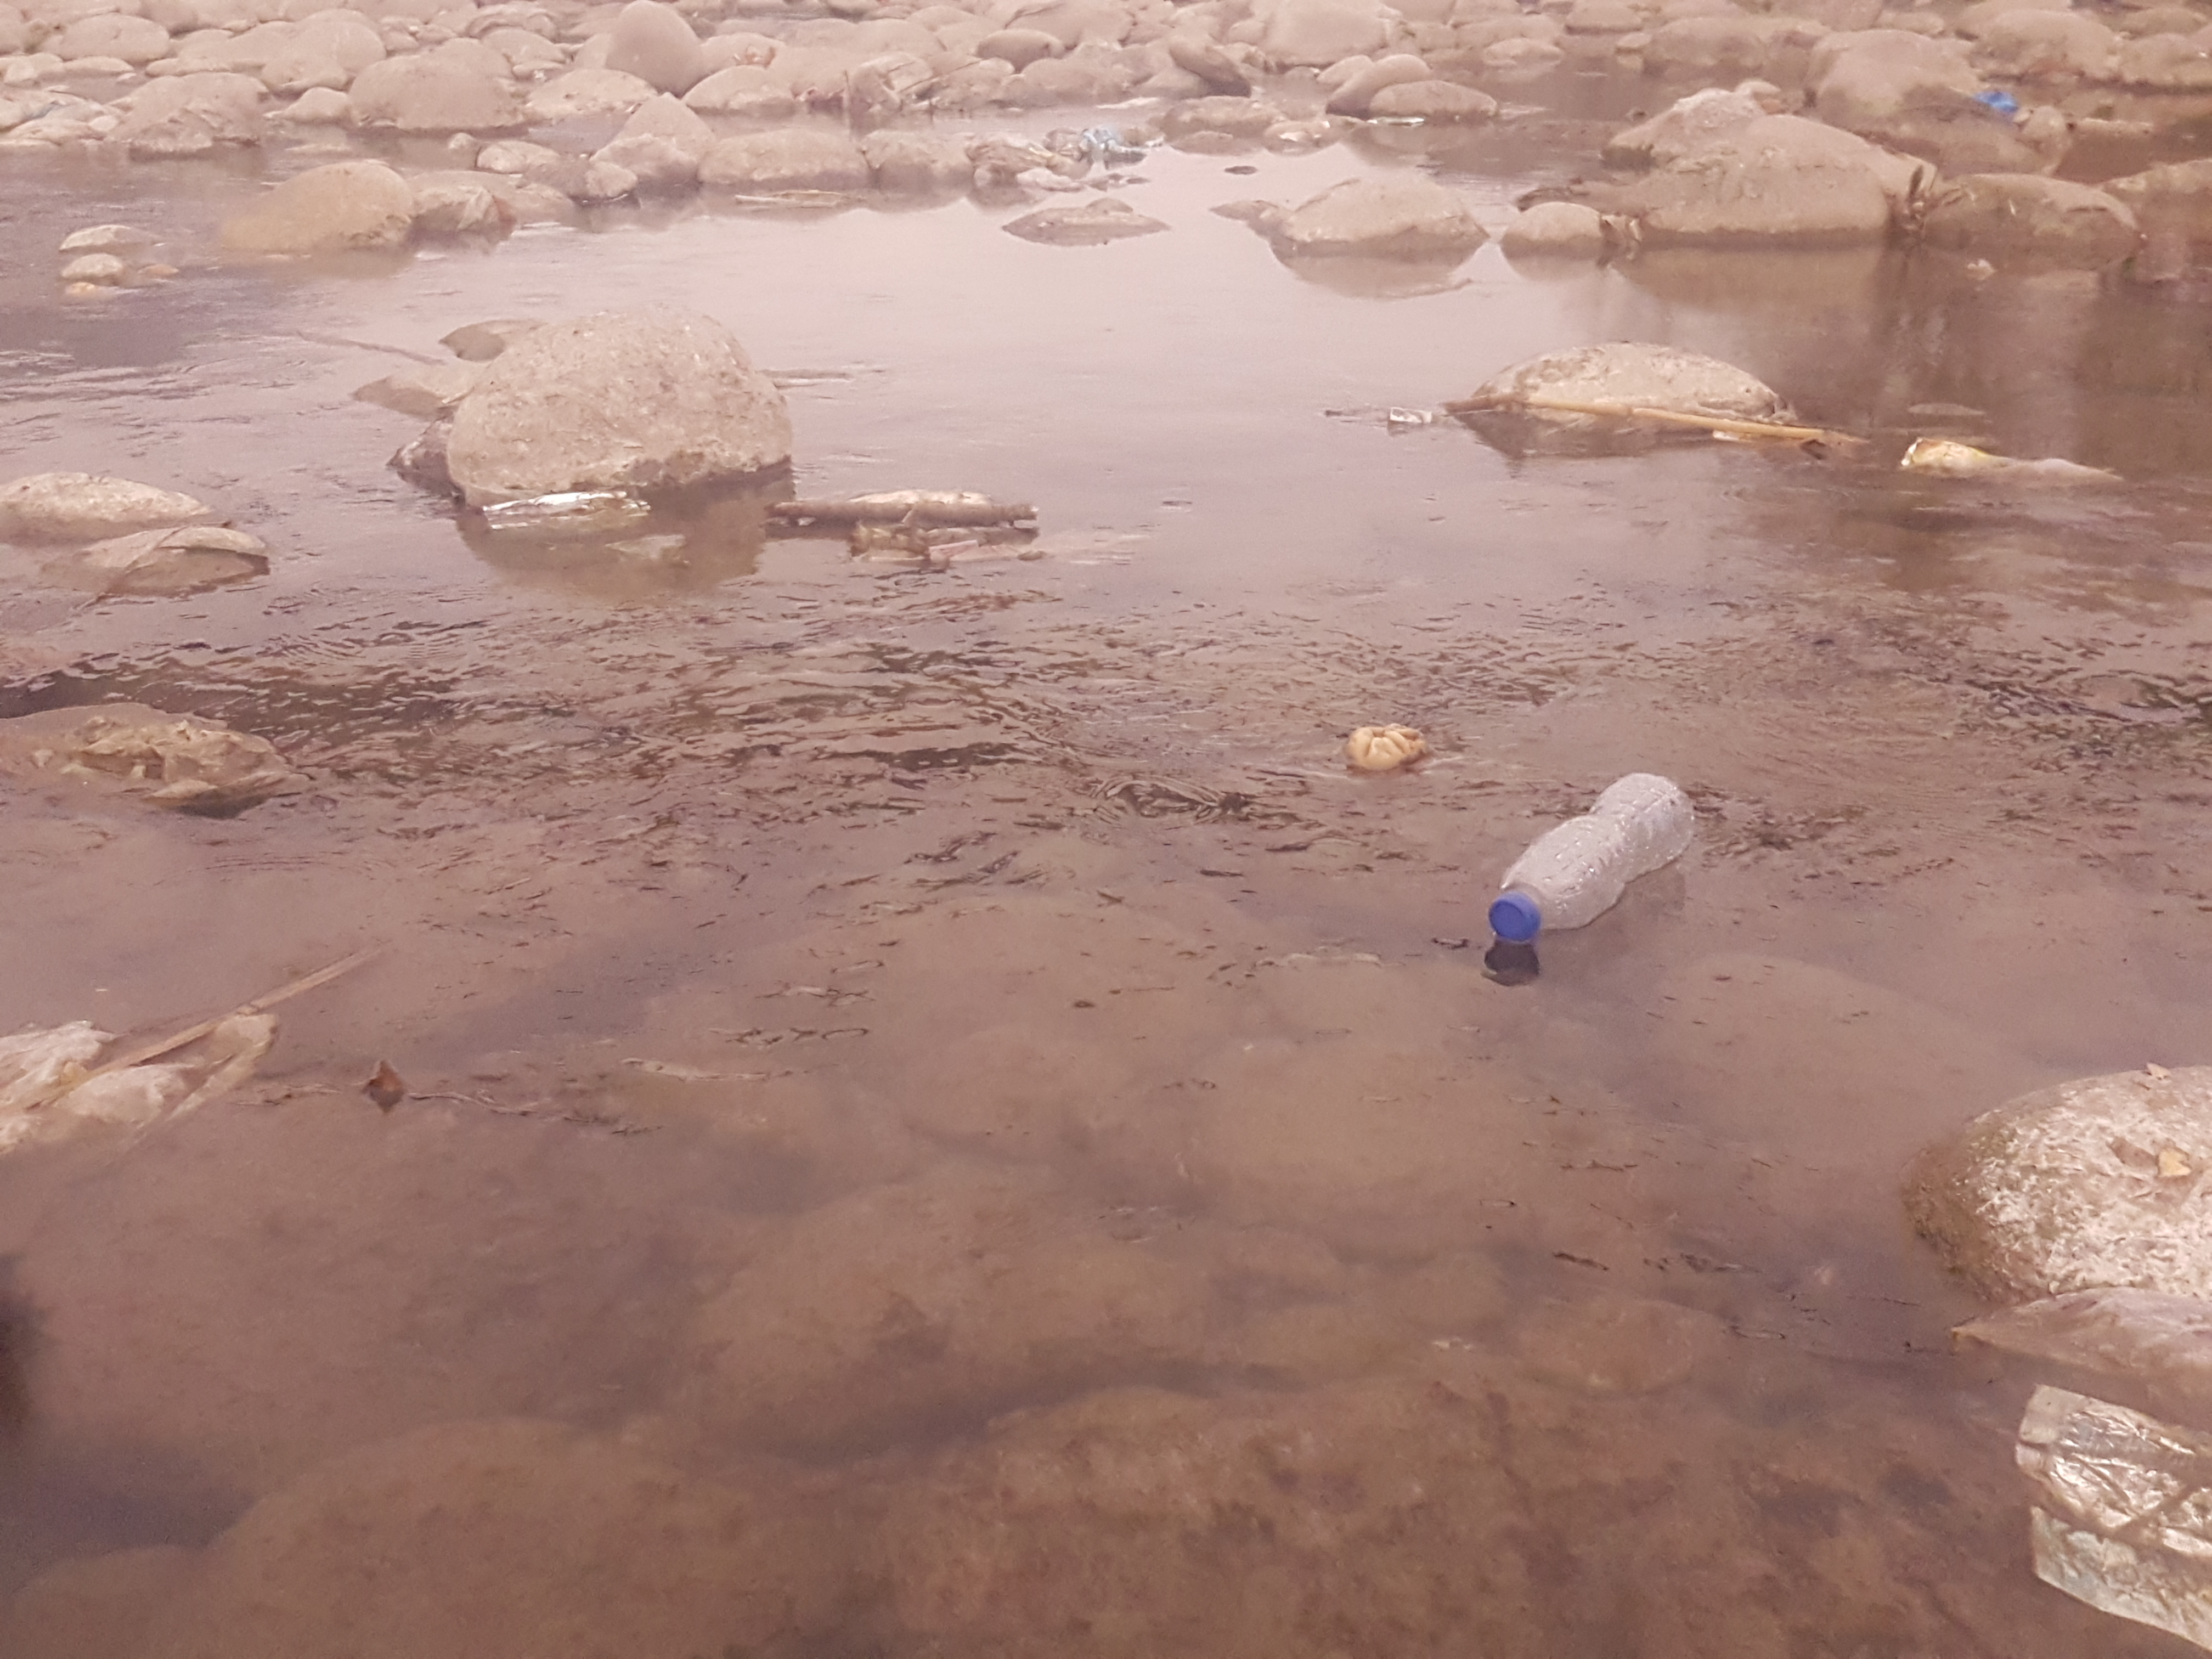Plastic Bottle: (1489, 772, 1698, 943), (1904, 439, 2113, 488)
